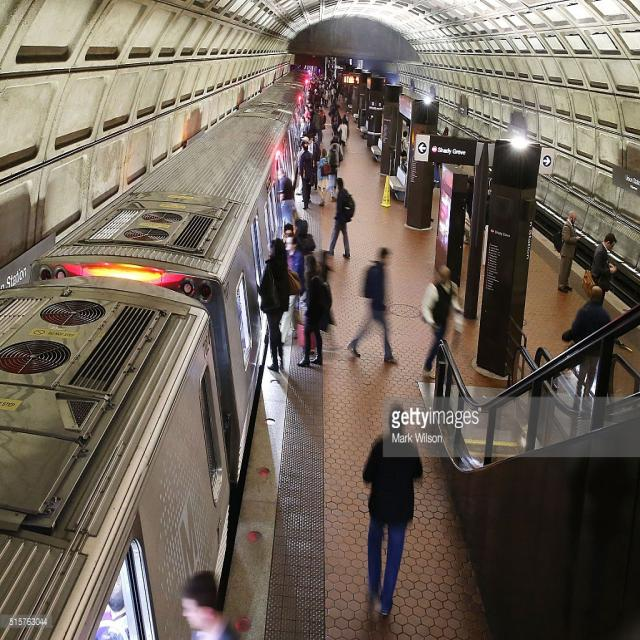body: (358, 401, 426, 620), (346, 246, 399, 366), (560, 284, 612, 398), (171, 566, 250, 639), (422, 264, 464, 382), (296, 254, 334, 368), (258, 237, 290, 372), (298, 56, 342, 146), (279, 232, 305, 348), (581, 231, 618, 307), (324, 176, 357, 260), (302, 254, 328, 359), (292, 217, 316, 311), (556, 210, 582, 294), (99, 576, 130, 640), (276, 167, 296, 237), (298, 143, 317, 211), (295, 135, 313, 197), (297, 140, 313, 203), (316, 146, 332, 207), (327, 134, 344, 190), (485, 170, 501, 226), (327, 143, 341, 204), (399, 150, 419, 192), (307, 136, 322, 190), (327, 138, 342, 190), (465, 174, 476, 223), (400, 129, 410, 165), (337, 116, 348, 147), (281, 223, 295, 246), (432, 158, 442, 188), (341, 109, 350, 138), (332, 114, 340, 136), (442, 126, 449, 137)
